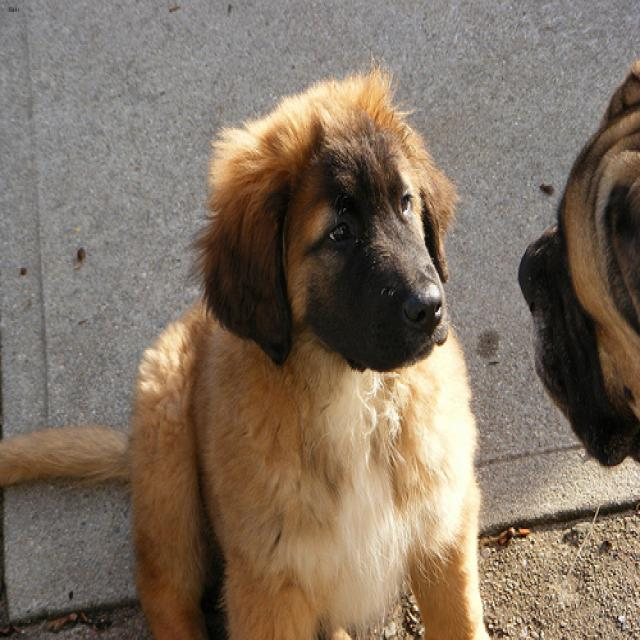dog-leonberger: (1, 55, 508, 637)
